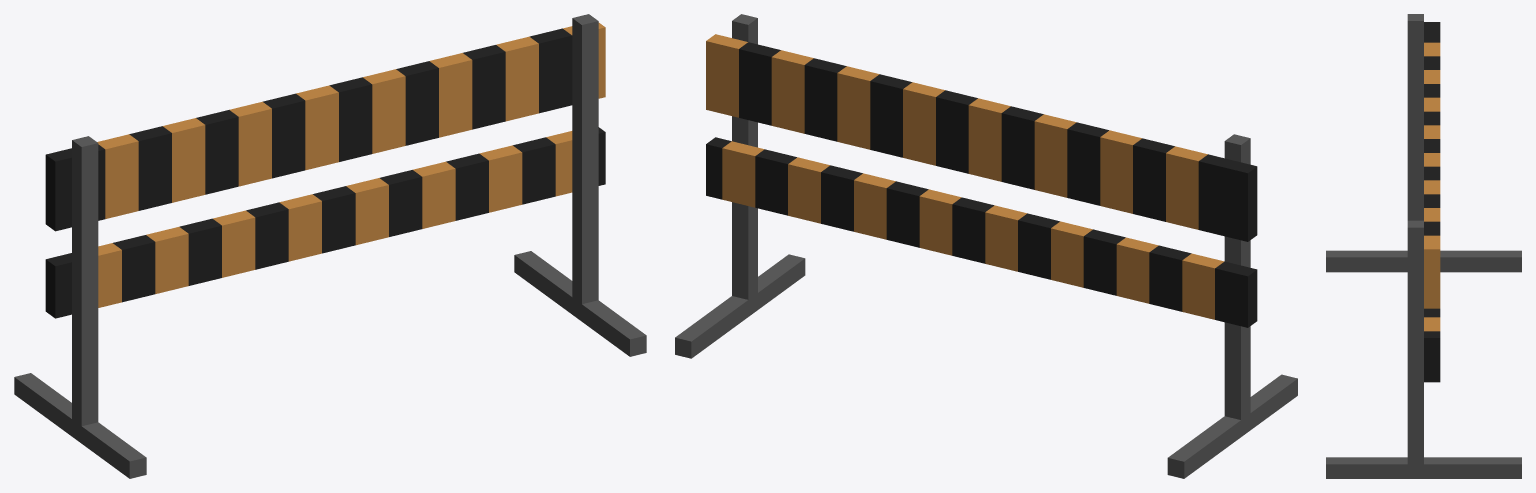
The model's file is fence.fbx.
3 views of the same model, side by side, from view 1: azimuth 30°, elevation 25°; view 2: azimuth 150°, elevation 25°; view 3: azimuth 270°, elevation 25° (orthographic). The views are drawn at different scales.
Visible parts, largest first — view 1: fence; view 2: fence; view 3: fence.
Boxes of the visible parts, x1,y1,x2,y2 form: fence: (14, 14, 646, 478); fence: (675, 14, 1297, 478); fence: (1326, 14, 1521, 478).
Size of the model in its own units: 330 by 170 by 120.
